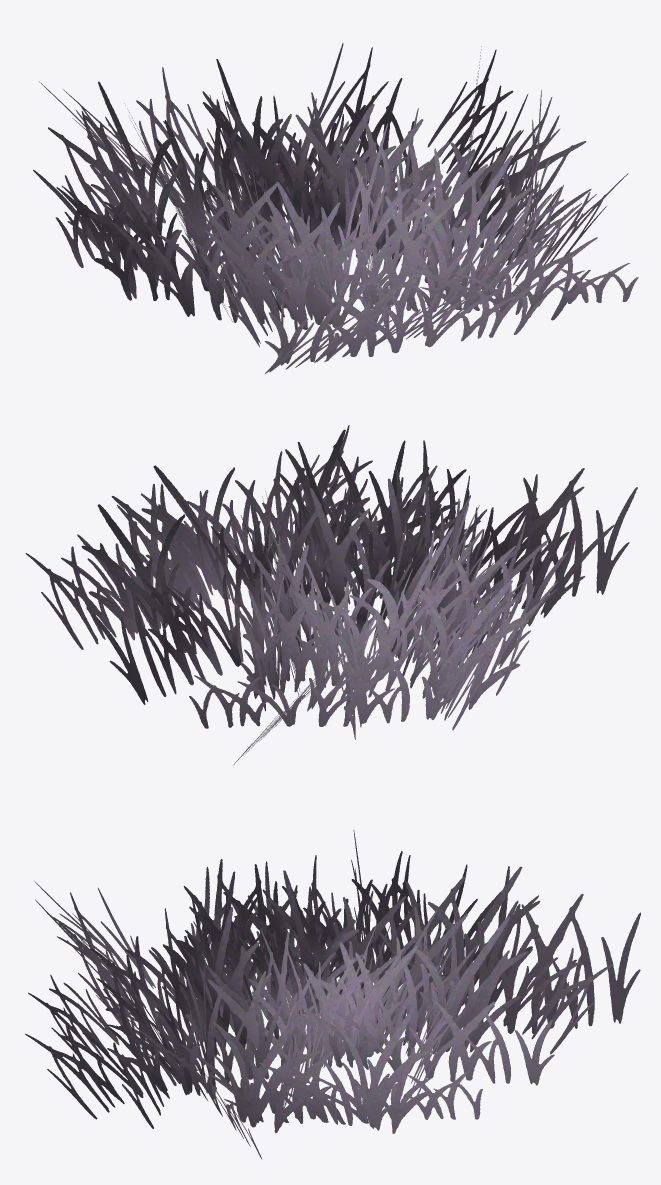
The picture shows the model from 3 angles, top to bottom: view 1: azimuth 30°, elevation 25°; view 2: azimuth 150°, elevation 25°; view 3: azimuth 270°, elevation 25°; orthographic projection. The views are drawn at different scales.
Parts seen in each view (by area): view 1: SM_FH_GrassShort_02_LOD0; view 2: SM_FH_GrassShort_02_LOD0; view 3: SM_FH_GrassShort_02_LOD0.
Part boxes in pixels (<box>): SM_FH_GrassShort_02_LOD0: <box>33,43,638,374</box>; SM_FH_GrassShort_02_LOD0: <box>25,425,637,764</box>; SM_FH_GrassShort_02_LOD0: <box>25,830,640,1159</box>.
Size of the model in its own units: 0.8139 by 0.309 by 0.9537.
Materials: 1 (1 with a texture image).
